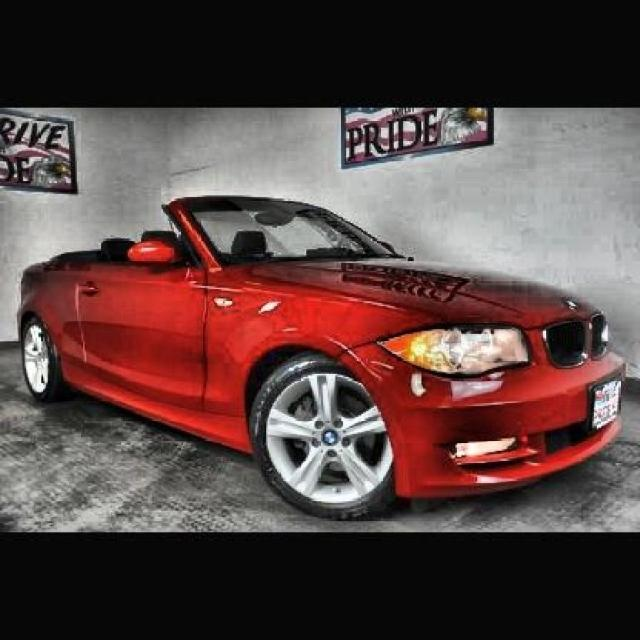maroon: (18, 195, 626, 518)
